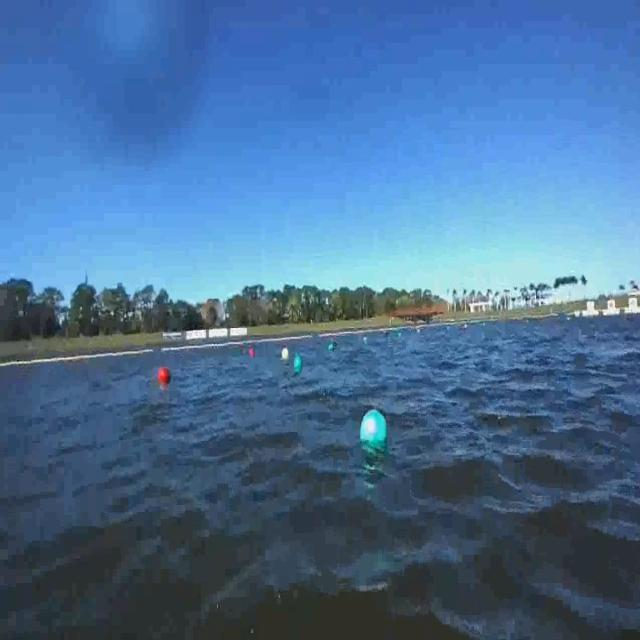green-buoy: (358, 411, 387, 451), (293, 354, 302, 374)
red-buoy: (156, 366, 170, 383), (250, 348, 256, 359)
yellow-buoy: (282, 348, 289, 361)
